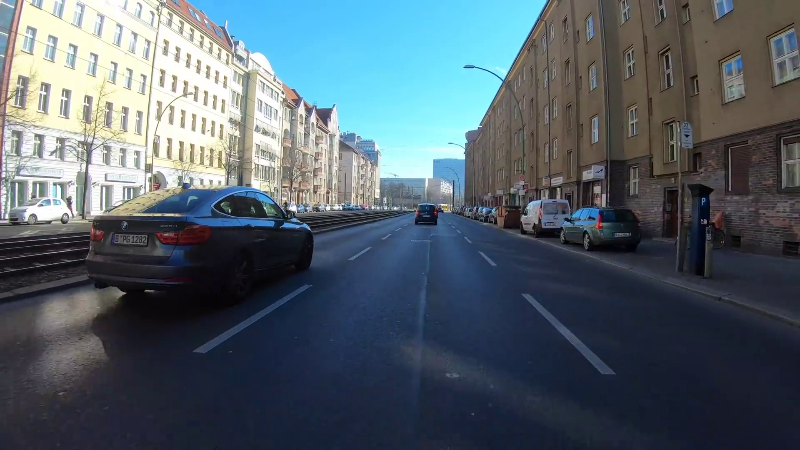Plate: (110, 232, 150, 247), (611, 231, 632, 239)
